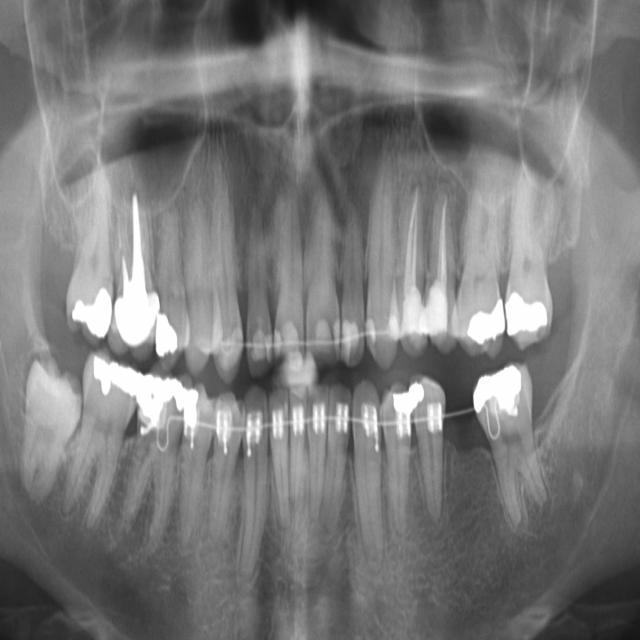infected-teeth: (109, 171, 159, 360), (430, 172, 461, 347), (401, 171, 430, 356)
